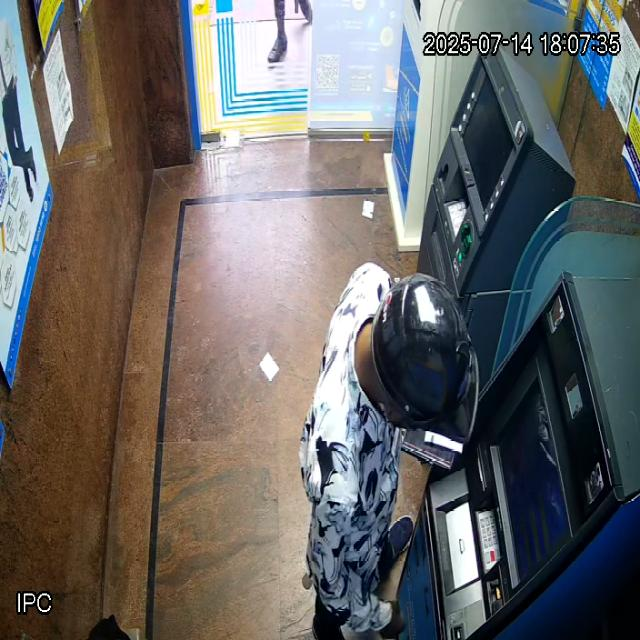helmet: (354, 273, 480, 444)
